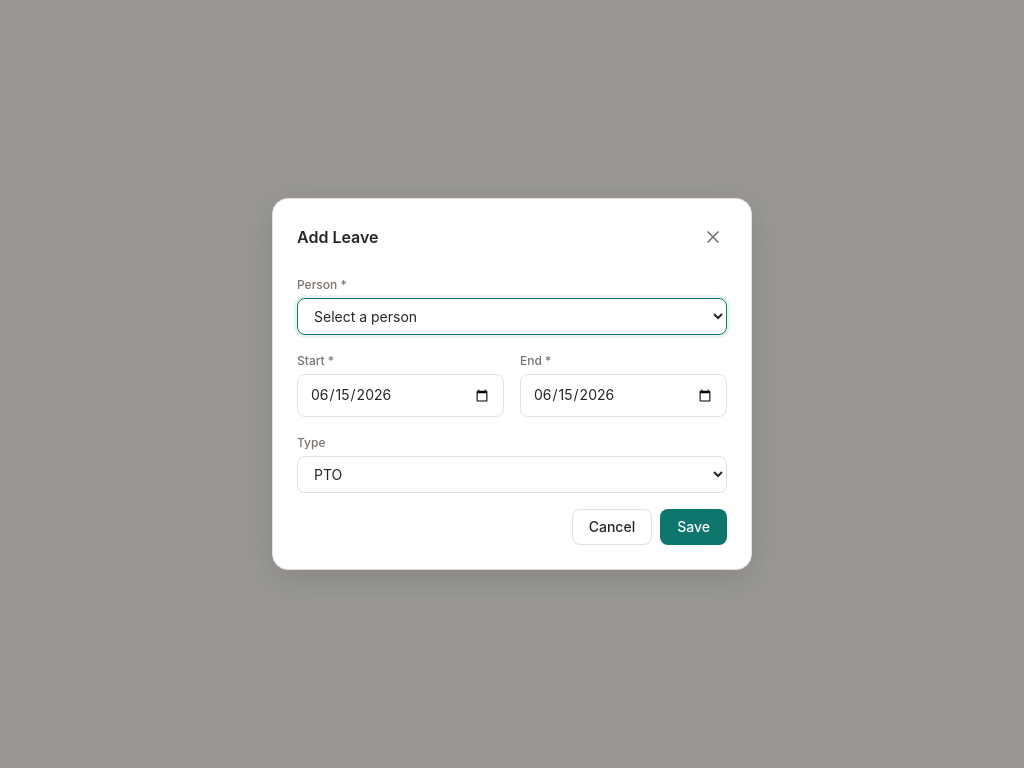
Test: LeaveForm › requires a person and focuses the field
The image size is (1024, 768).
Click the button "Save". click: (694, 527)
box: x1=660 y1=509 x2=727 y2=545
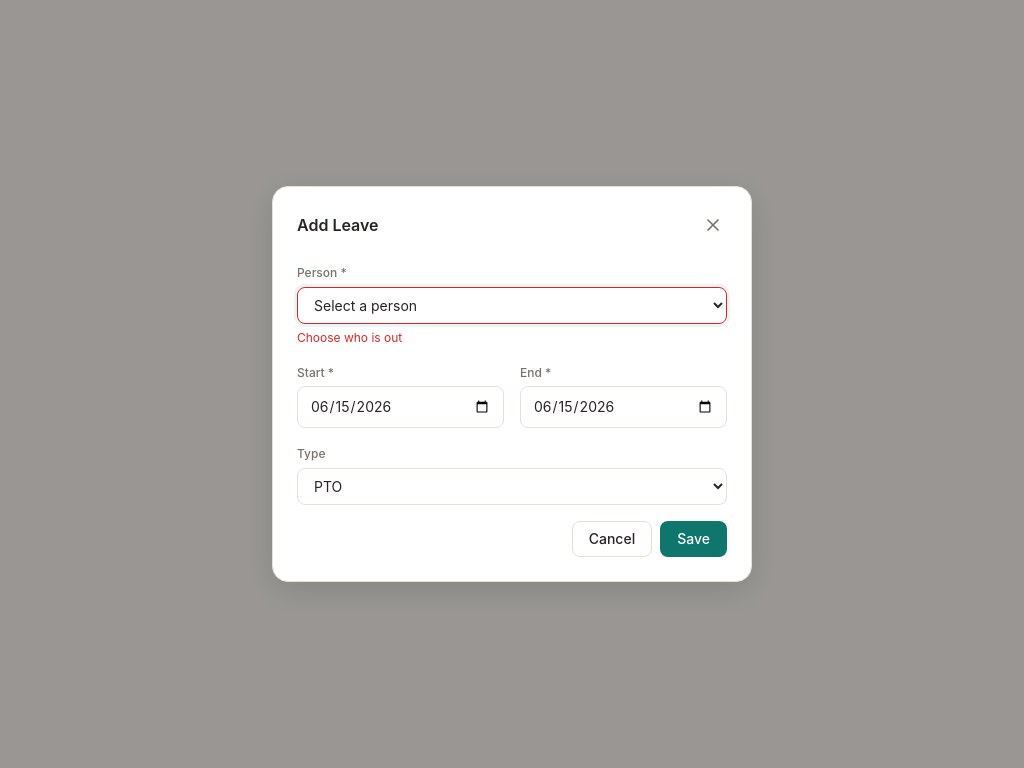
Result: the text "Choose who is out" is shown at x1=297 y1=330 x2=402 y2=345
